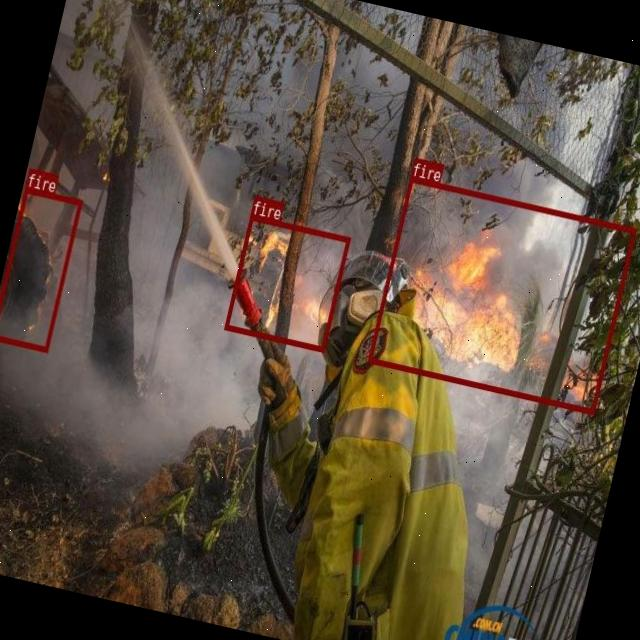fire: (367, 176, 636, 414), (223, 214, 349, 350), (0, 186, 81, 351)
